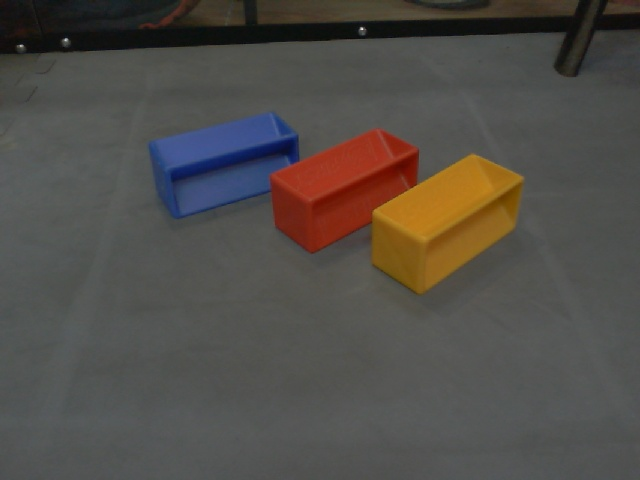BlueSample: (147, 110, 299, 217)
RedSample: (268, 128, 420, 255)
YellowSample: (370, 153, 526, 296)
